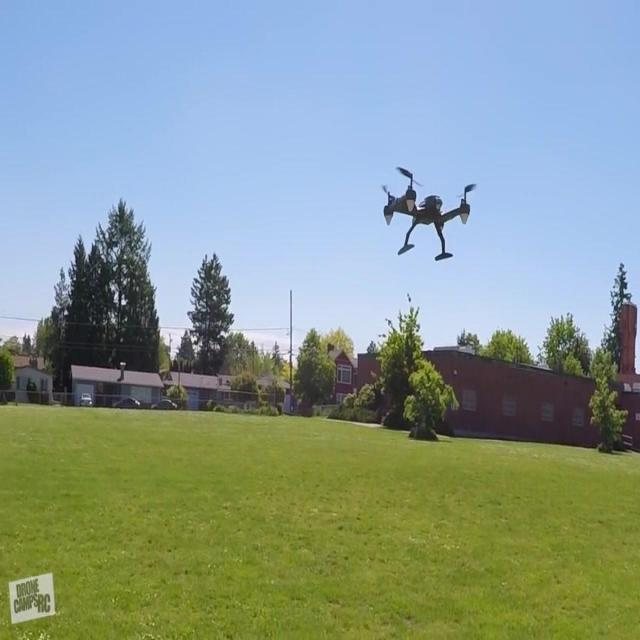UAV: (381, 166, 477, 262)
